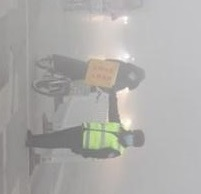person: (29, 98, 146, 160), (54, 53, 147, 95), (62, 1, 145, 21)
